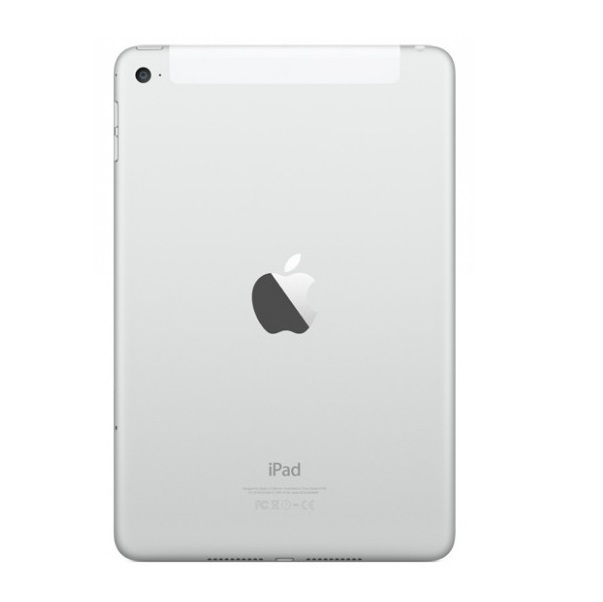Apple: (238, 240, 332, 346), (254, 453, 311, 486)
